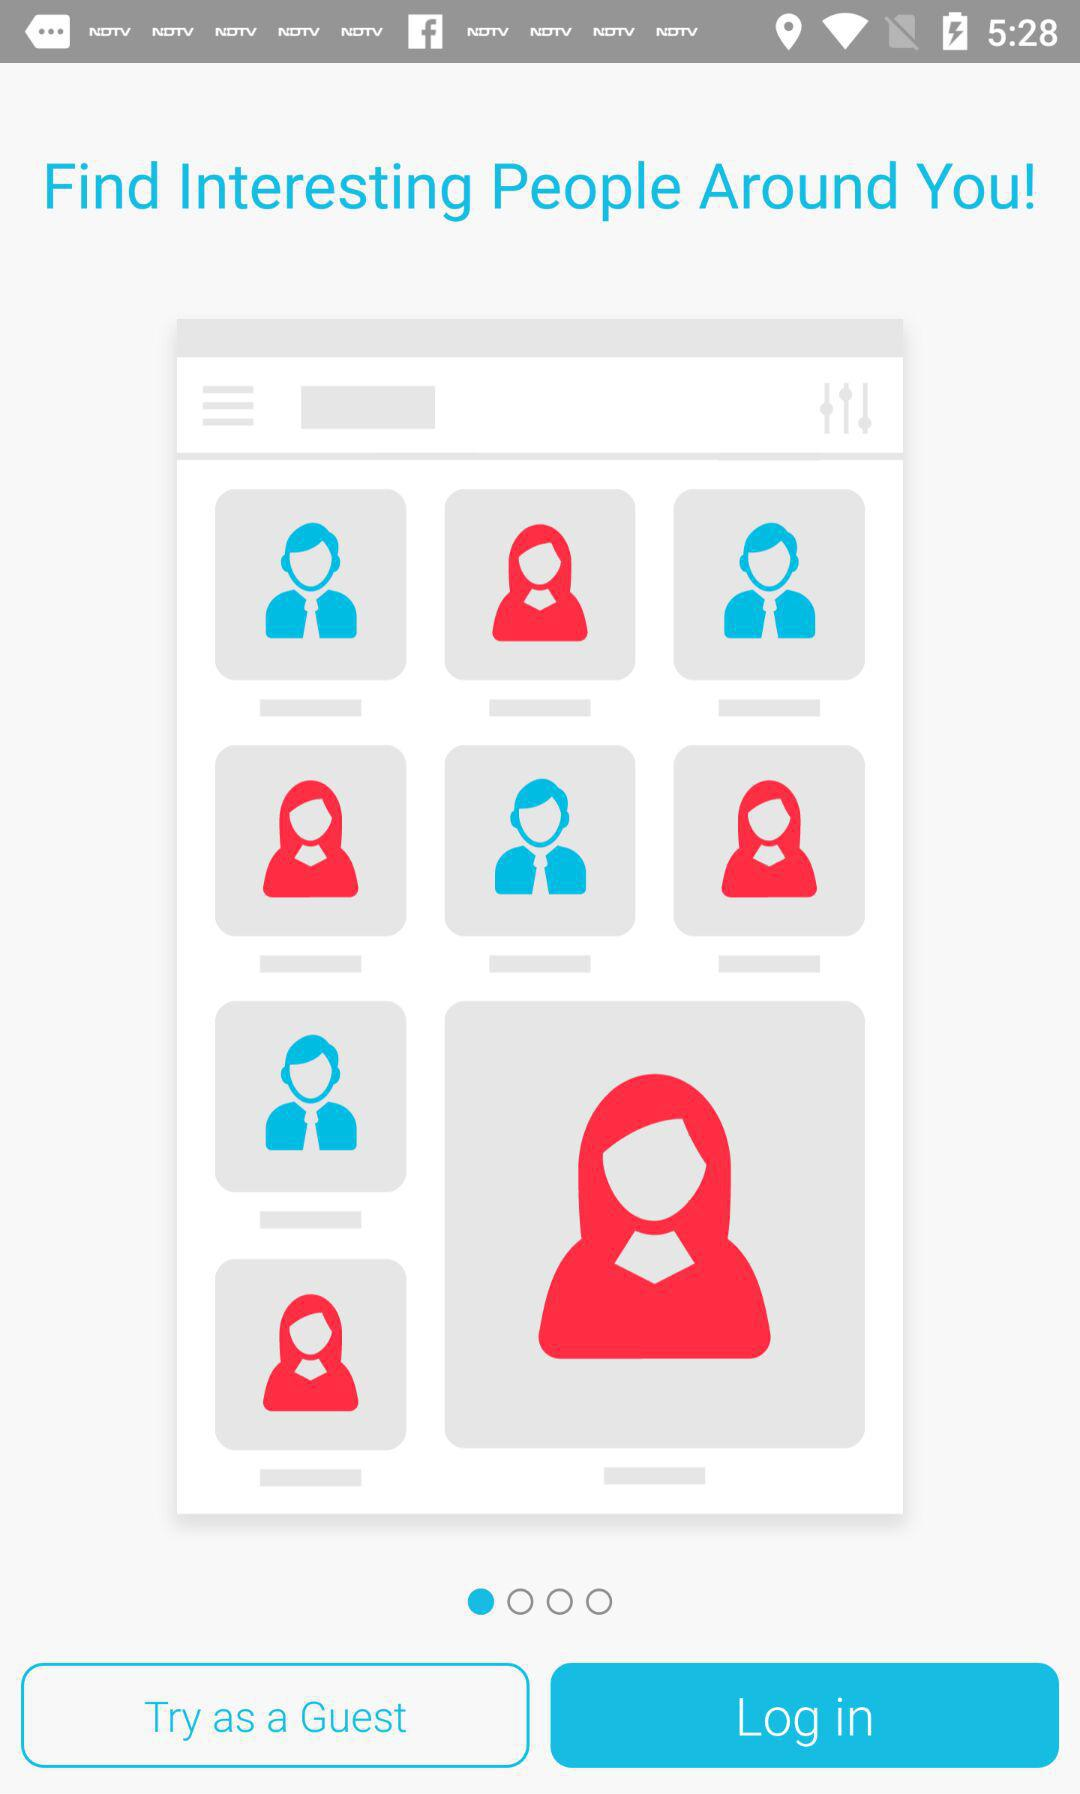Image: (177, 319, 904, 1515)
PageIndicator: (468, 1586, 614, 1617)
Text: (47, 161, 1034, 224)
TextButton: (20, 1662, 530, 1768), (550, 1662, 1060, 1768)
UpperTaskBar: (1, 1, 1080, 64)
